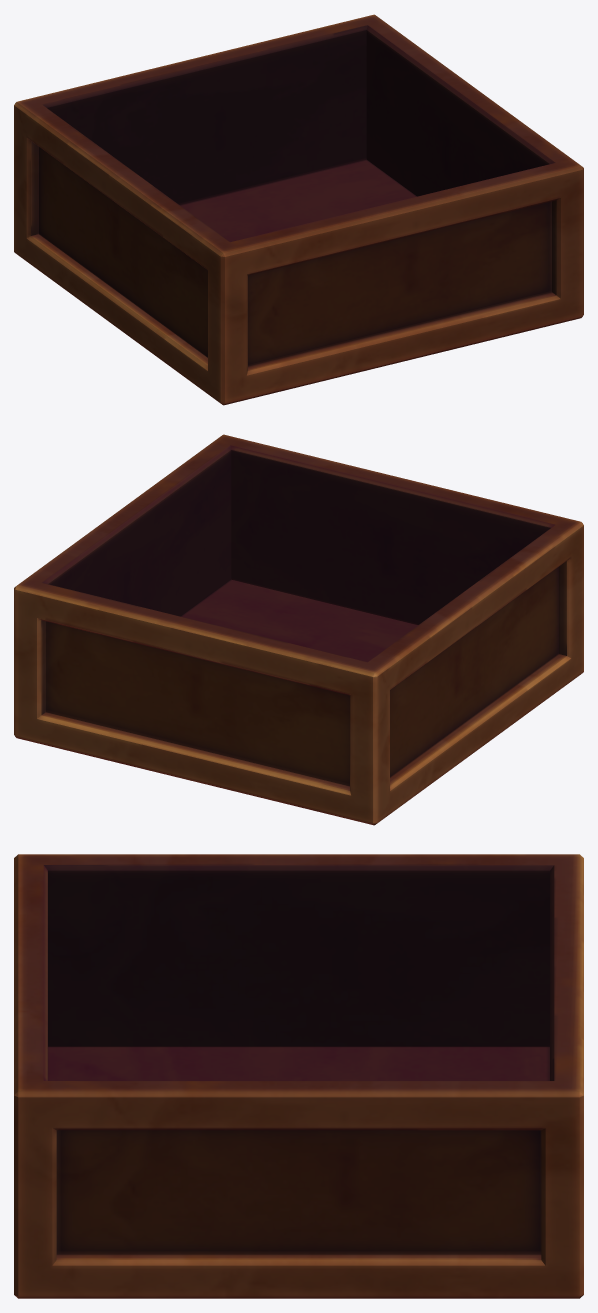
File: IngredientsBoxCounter.fbx
3 renders of one model, top to bottom at view 1: azimuth 30°, elevation 25°; view 2: azimuth 150°, elevation 25°; view 3: azimuth 270°, elevation 25°, orthographic. The views are drawn at different scales.
Visible parts, largest first — view 1: Ingredients_Box; view 2: Ingredients_Box; view 3: Ingredients_Box.
Boxes of the visible parts, x1=… form: Ingredients_Box: x1=14, y1=14, x2=583, y2=405; Ingredients_Box: x1=14, y1=434, x2=583, y2=825; Ingredients_Box: x1=14, y1=854, x2=583, y2=1298.
Size of the model in its own units: 200 by 80.19 by 200.
Materials: 1 (1 with a texture image).
